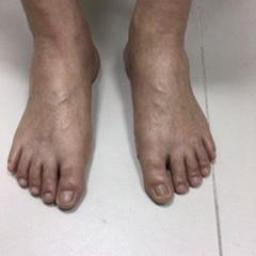Dorsal View -Both Feet-: (5, 14, 221, 221)
